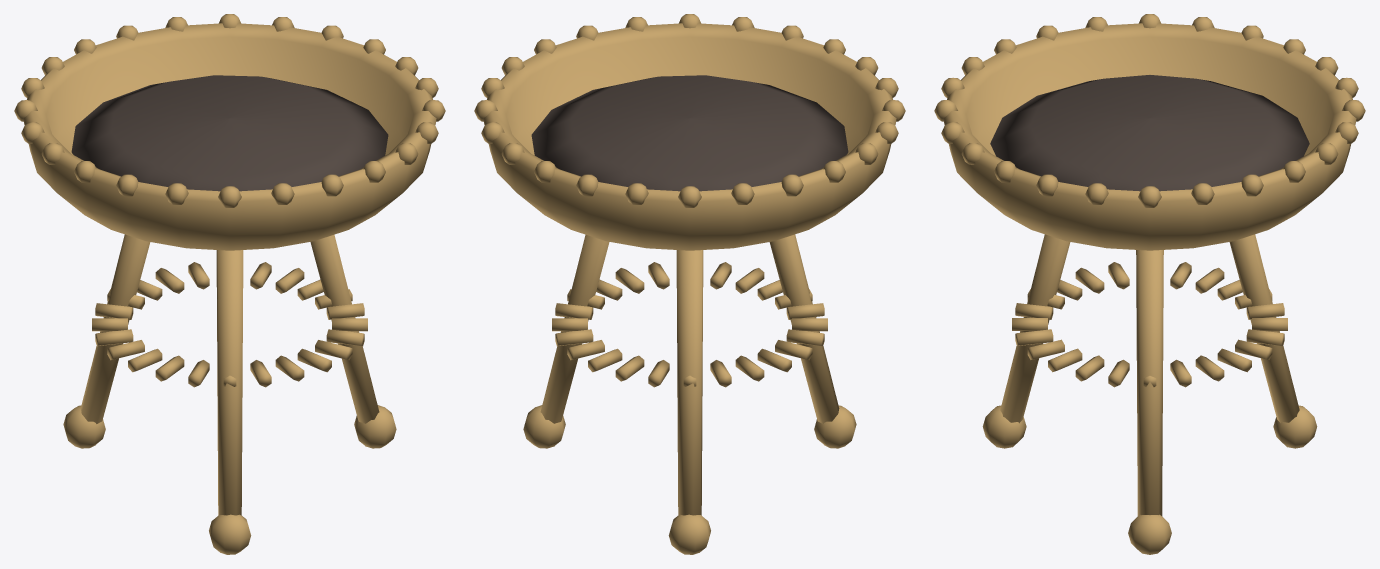
File: brazier.glb
The picture shows the model from 3 angles, left to right: view 1: azimuth 30°, elevation 25°; view 2: azimuth 150°, elevation 25°; view 3: azimuth 270°, elevation 25°; orthographic projection.
Parts seen in each view (by area): view 1: brazier, bowl; view 2: brazier, bowl; view 3: brazier, bowl.
Part boxes in pixels (x1,y1,x2,y2): brazier: (14,14,445,554); bowl: (71,75,388,191); brazier: (474,14,905,554); bowl: (531,75,848,191); brazier: (934,14,1365,554); bowl: (990,75,1309,191).
Size of the model in its own units: 1.07 by 1.05 by 1.08.
